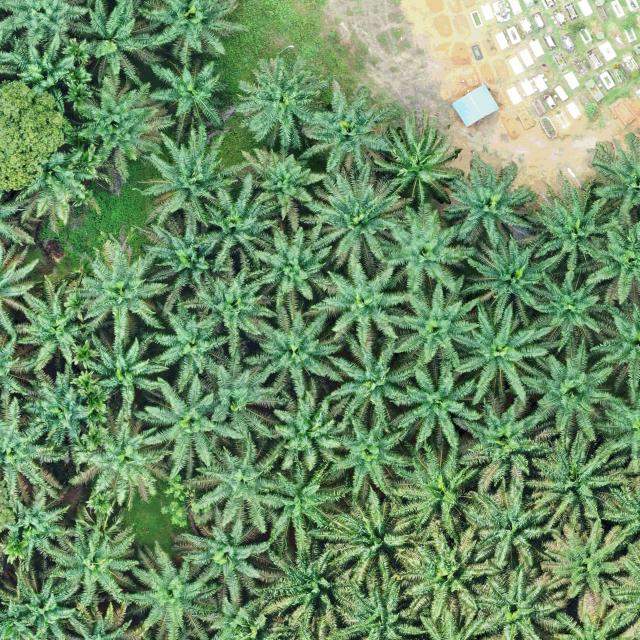Tree: (291, 150, 414, 269), (132, 368, 251, 484), (60, 224, 173, 340), (174, 496, 291, 606), (450, 291, 558, 409), (67, 74, 182, 184), (304, 478, 414, 592), (524, 430, 640, 538), (228, 44, 338, 157), (513, 332, 620, 446), (306, 250, 418, 355), (40, 502, 142, 617), (71, 324, 184, 426), (179, 430, 286, 534), (62, 412, 173, 512), (241, 293, 348, 395), (242, 527, 348, 629), (389, 522, 497, 622), (123, 537, 227, 640), (255, 455, 354, 563), (384, 437, 476, 549), (376, 195, 476, 298), (528, 171, 625, 277), (148, 290, 236, 406), (449, 392, 546, 496), (141, 131, 238, 232), (382, 357, 485, 452), (294, 79, 400, 171), (535, 510, 633, 609), (437, 154, 538, 250), (178, 258, 281, 352), (391, 275, 486, 375), (324, 408, 419, 503), (462, 474, 552, 574), (247, 214, 346, 304), (324, 330, 414, 428), (135, 205, 223, 302), (66, 0, 165, 85), (468, 561, 571, 640), (11, 267, 89, 370), (0, 80, 70, 194), (464, 233, 557, 318), (374, 122, 464, 208), (533, 263, 612, 360), (324, 571, 432, 640), (209, 358, 291, 448), (196, 185, 280, 272), (0, 389, 64, 502), (13, 362, 95, 448), (144, 56, 226, 140), (238, 143, 329, 218), (138, 0, 244, 64), (272, 384, 346, 474), (0, 562, 84, 640), (1, 483, 76, 565), (584, 295, 640, 396), (585, 129, 640, 230), (7, 24, 85, 92), (0, 240, 46, 342), (200, 588, 285, 640), (178, 607, 227, 610)
